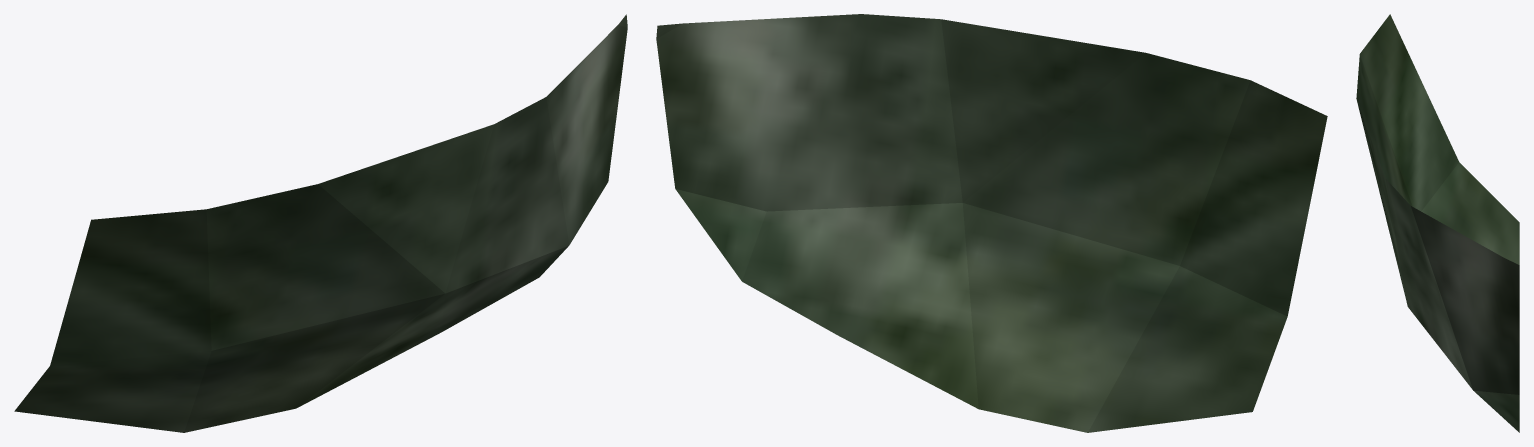
3 renders of one model, left to right at view 1: azimuth 30°, elevation 25°; view 2: azimuth 150°, elevation 25°; view 3: azimuth 270°, elevation 25°, orthographic. The views are drawn at different scales.
Bounding box in the file's own units: 1.55 × 0.7564 × 0.4238.
1 material, 1 textured.
